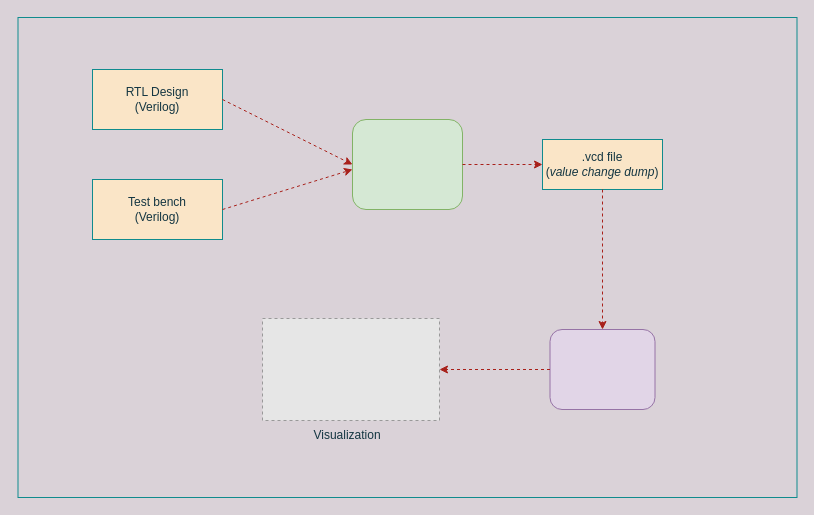
Some shapes in this 814 by 515 pixel diagram are drawn without their labels. Grey dashed boxes stand in for pictures. Here are the shapes that lost their labels. From the top down, the centre of each, then its label:
At point 407,164: "îVerilog".
At point 602,369: "GTKWave".
